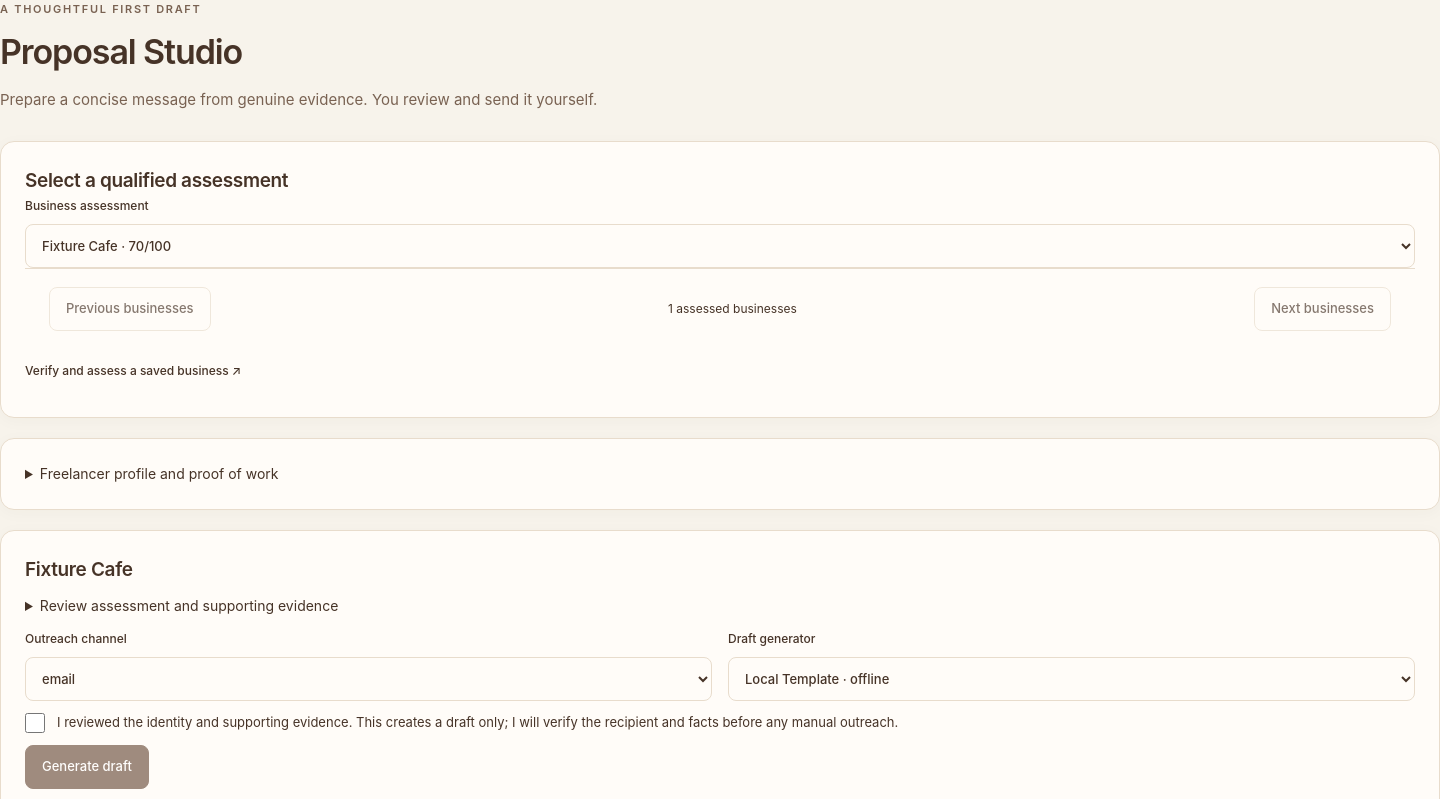
Test: shows provider quota errors without creating or substituting a local draft
The image size is (1440, 799).
expect the button "Generate draft" is shown: met, box 25,745 -> 149,789
Step 1. Select "Gemini AI Writer · gemini-3.5-flash-lite" in the dropdown labelled "Draft generator" → (1072, 679), box 728,657 -> 1415,701
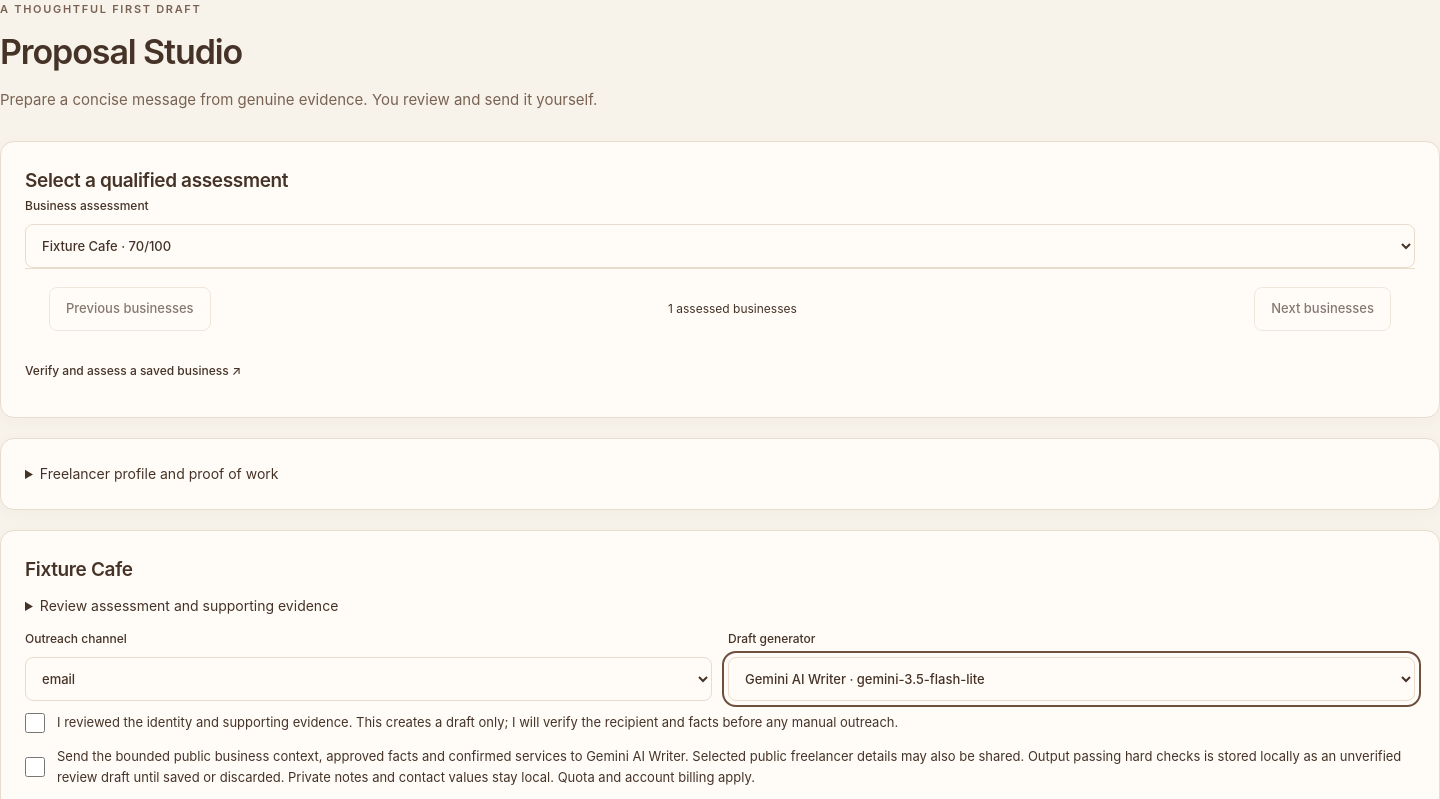
Step 2. Click the checkbox labelled "I reviewed the identity" → (35, 723), box 25,713 -> 45,733
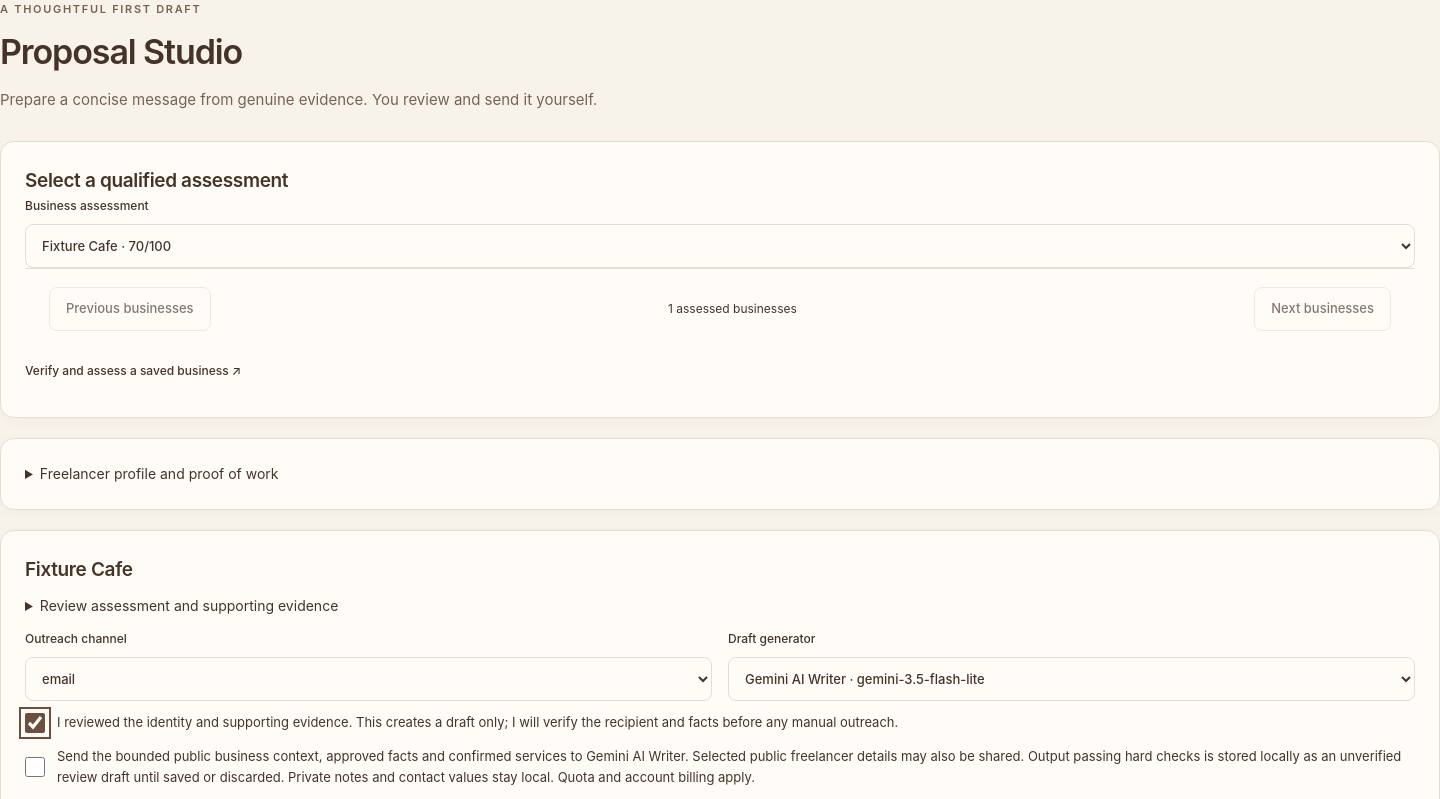
Step 3. Click the checkbox labelled "Send the bounded public" → (35, 767), box 25,757 -> 45,777
(page scrolled)
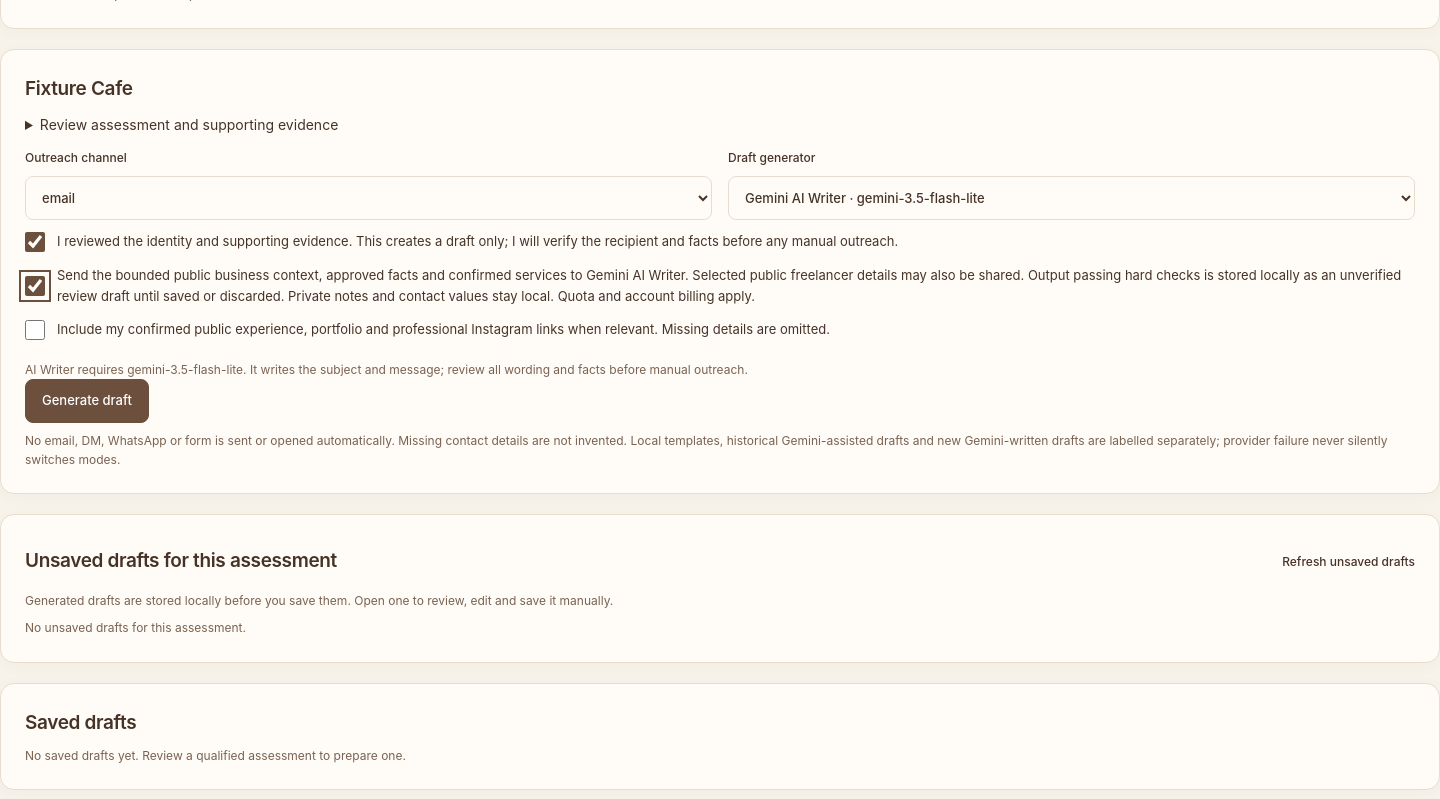
Step 4. Click the button "Generate draft" → (87, 401), box 25,379 -> 149,423
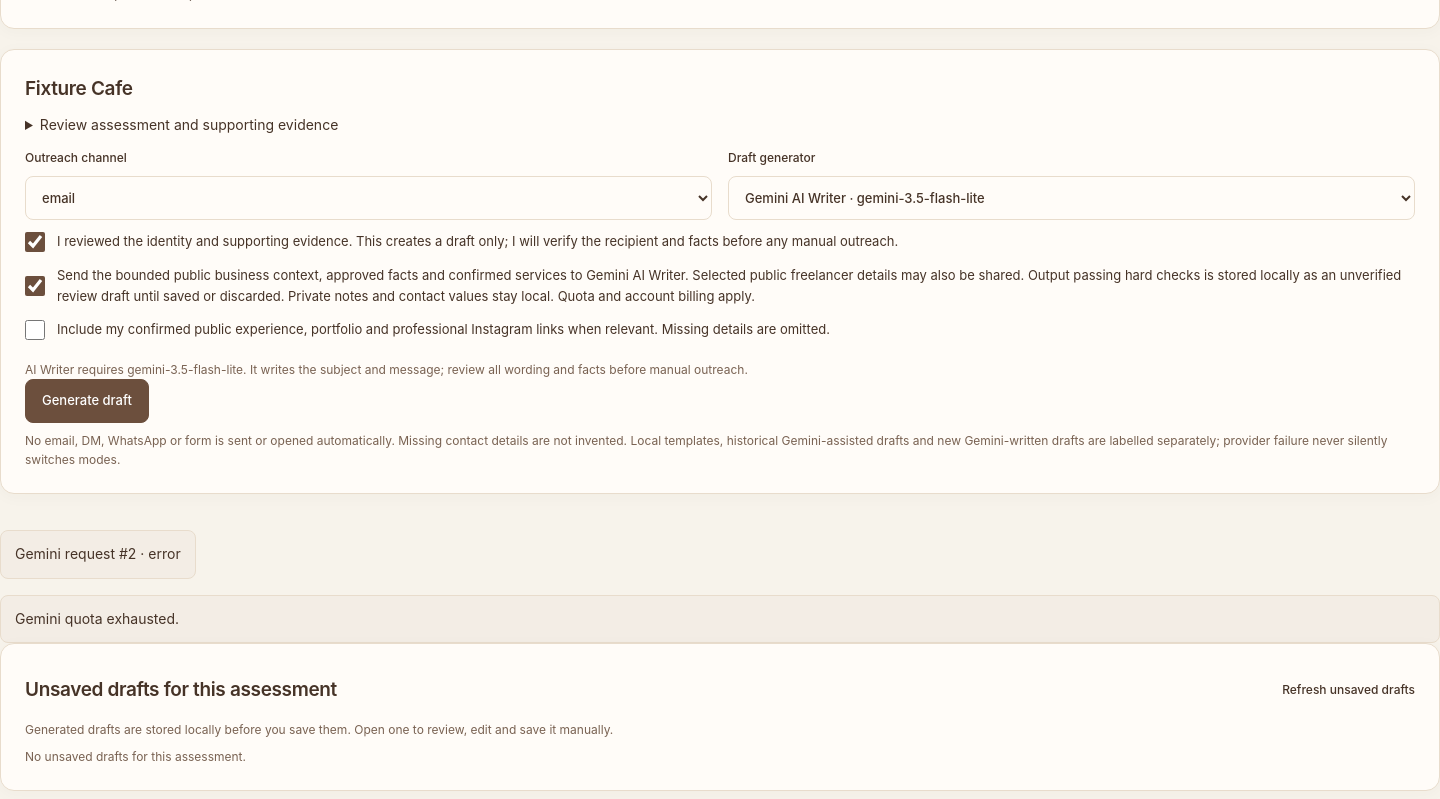
expect the message "Gemini quota exhausted." is shown: met, box 0,595 -> 1439,643
